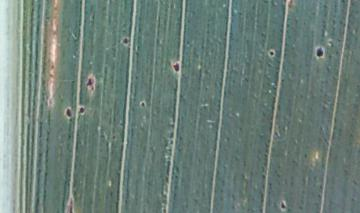tarspot: (315, 46, 324, 58), (64, 107, 73, 118), (172, 62, 181, 73), (86, 78, 94, 88), (121, 38, 130, 46), (268, 50, 275, 57), (79, 107, 85, 114), (139, 101, 146, 107), (68, 206, 74, 213), (281, 202, 286, 210)
